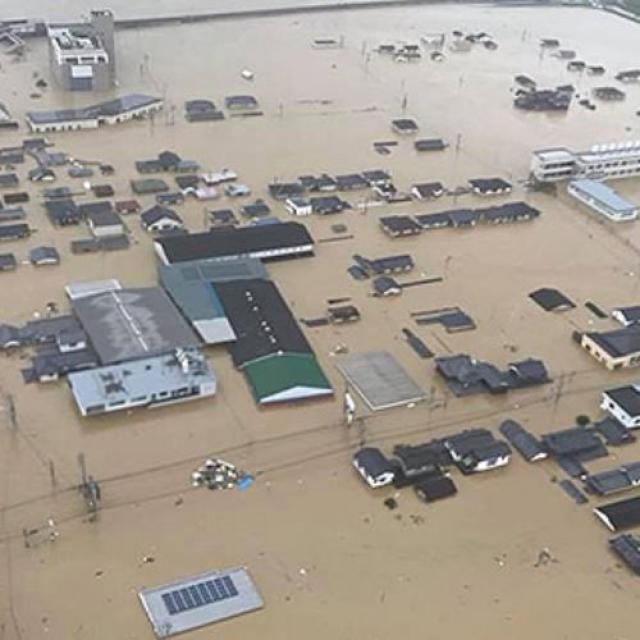flood: (0, 349, 640, 640), (50, 2, 640, 222), (267, 191, 640, 392), (0, 154, 159, 324), (0, 36, 116, 130), (0, 0, 336, 20), (170, 186, 260, 232), (88, 152, 156, 210), (0, 130, 28, 146)
house: (49, 277, 217, 405), (209, 256, 336, 412), (150, 216, 310, 274), (136, 568, 264, 636), (334, 349, 429, 417), (47, 10, 113, 90), (530, 141, 640, 185), (566, 178, 636, 225), (581, 329, 640, 374), (449, 434, 513, 472), (354, 446, 394, 490), (141, 204, 183, 232), (384, 214, 420, 240), (88, 212, 124, 237), (484, 204, 534, 222), (450, 205, 480, 228), (31, 246, 60, 266), (284, 198, 314, 216), (422, 210, 450, 228), (340, 174, 366, 190), (318, 172, 338, 192), (368, 170, 392, 186), (30, 166, 54, 182)
